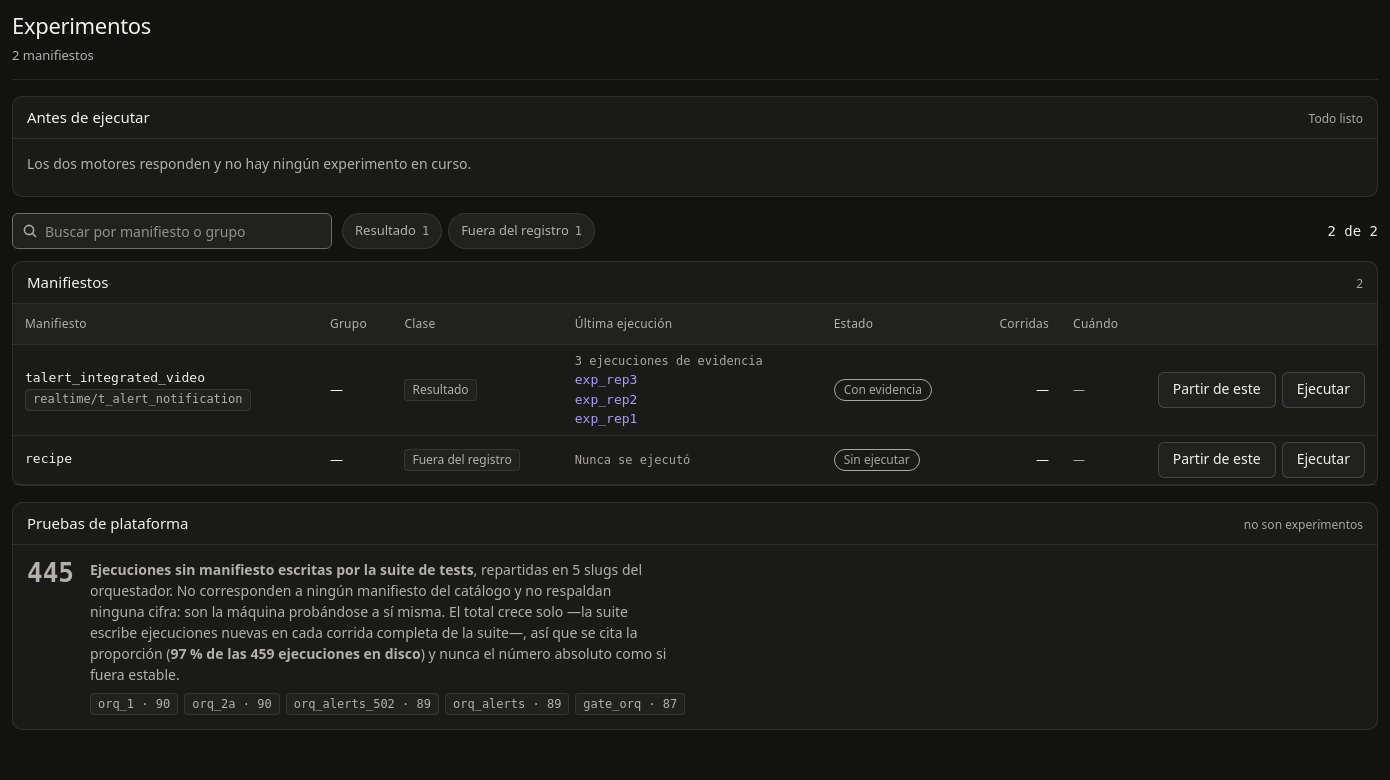
it: filtra por clase con los chips (Task 7/8), sin pedir nada nuevo al servidor
Expected: the text "talert_integrated_video" is shown, [25, 370, 205, 385]
Expected: the text "recipe" is shown, [25, 451, 72, 466]
Click the button "Resultado 1" at (392, 231), box [342, 213, 442, 249]
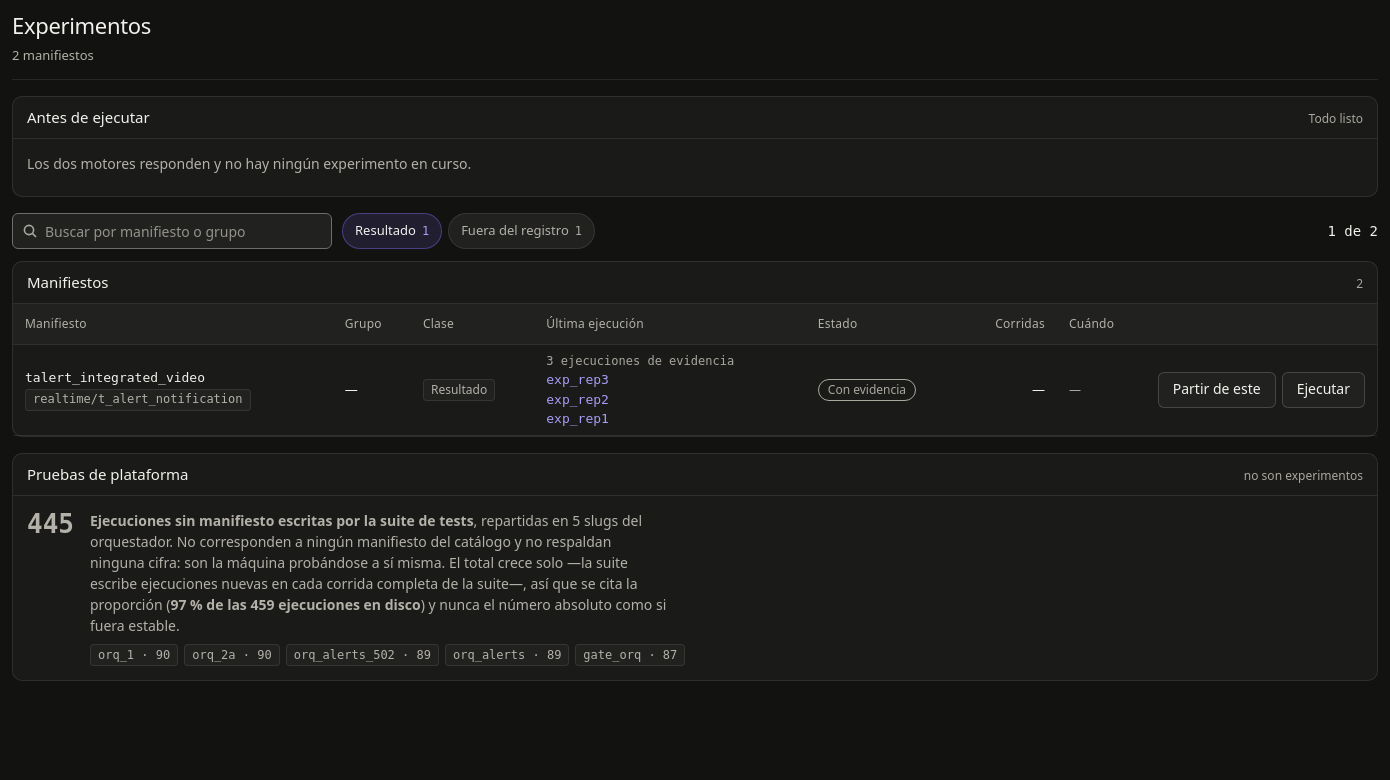
Expected: the text "talert_integrated_video" is shown, [25, 370, 205, 385]
Now the text "recipe" is gone
Click the button "Resultado 1" at (392, 231), box [342, 213, 442, 249]
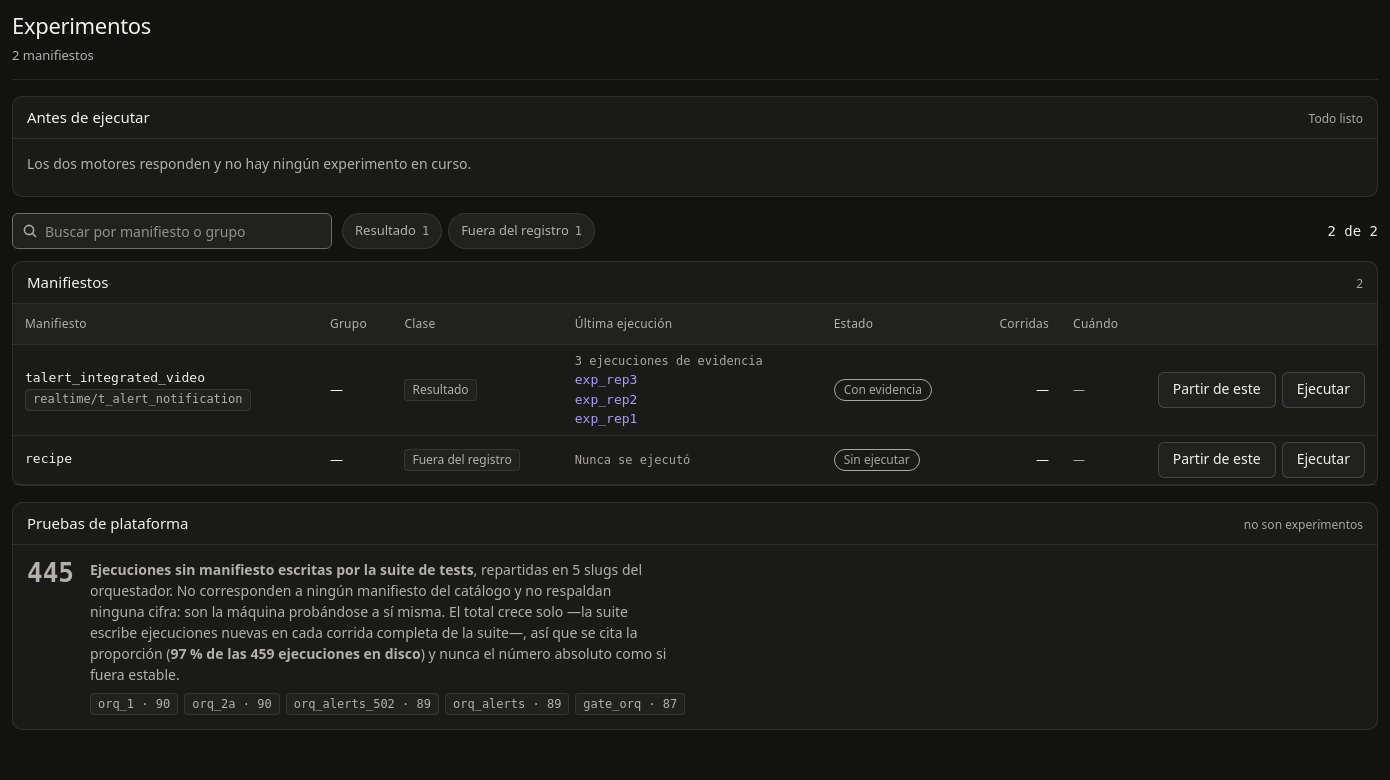
Now the text "recipe" is shown, box [25, 451, 72, 466]
